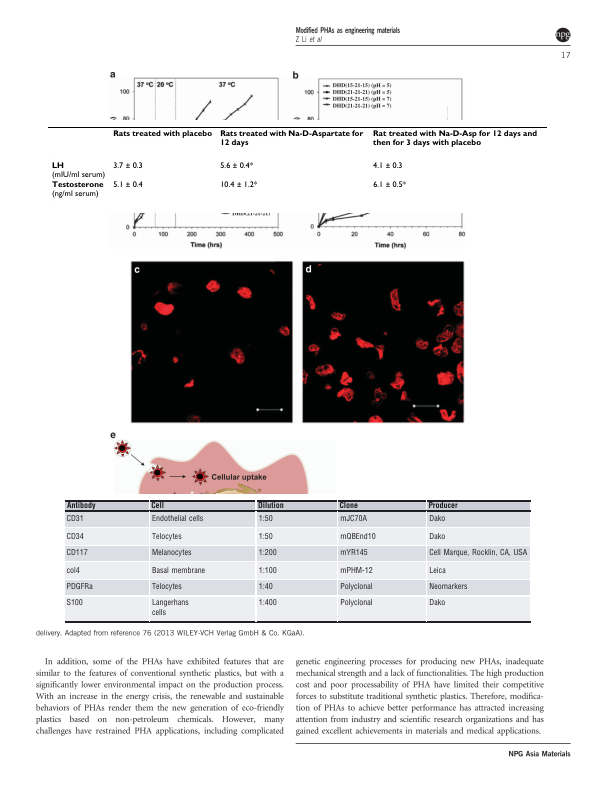borderless: (65, 499, 531, 621), (46, 125, 548, 207)
cell: (372, 130, 537, 148), (219, 130, 364, 148), (50, 161, 106, 180), (428, 548, 528, 558), (50, 181, 104, 199), (112, 130, 213, 139), (150, 598, 189, 618), (150, 566, 206, 575), (150, 514, 204, 523), (150, 548, 192, 558), (428, 582, 468, 592), (219, 180, 258, 190), (219, 161, 254, 171), (339, 582, 373, 592), (339, 598, 373, 608), (372, 180, 406, 190), (339, 532, 376, 541), (150, 582, 182, 592), (65, 501, 96, 511), (427, 501, 458, 511), (112, 161, 143, 171), (372, 161, 403, 171), (112, 180, 143, 190), (339, 566, 373, 575), (339, 548, 368, 558), (150, 532, 182, 541), (256, 501, 284, 511), (65, 582, 93, 592), (339, 514, 367, 523), (65, 548, 88, 558), (338, 501, 358, 511), (257, 548, 277, 558), (257, 598, 277, 608), (257, 566, 277, 575), (65, 598, 83, 608), (428, 598, 446, 608), (65, 514, 84, 523), (65, 532, 84, 541), (428, 514, 446, 523), (428, 532, 446, 541), (428, 566, 446, 575), (257, 582, 273, 592), (257, 514, 273, 523), (257, 532, 273, 541), (150, 501, 164, 511), (65, 566, 80, 575)
